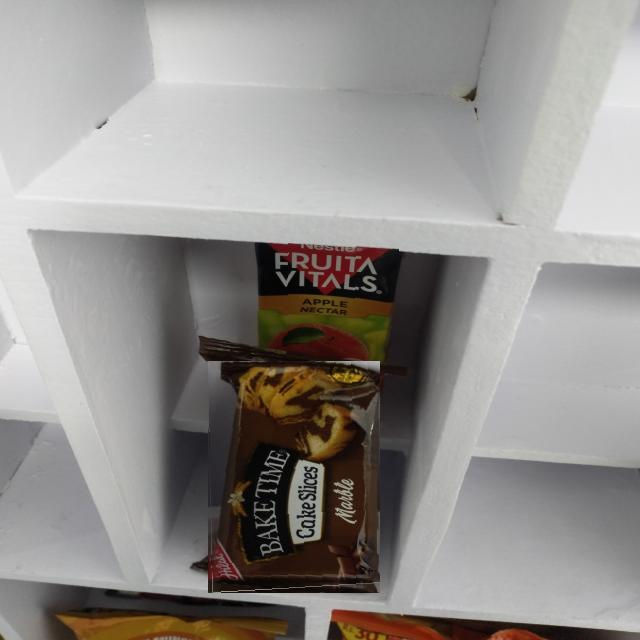Plastic: (207, 362, 380, 594), (254, 243, 399, 355)
